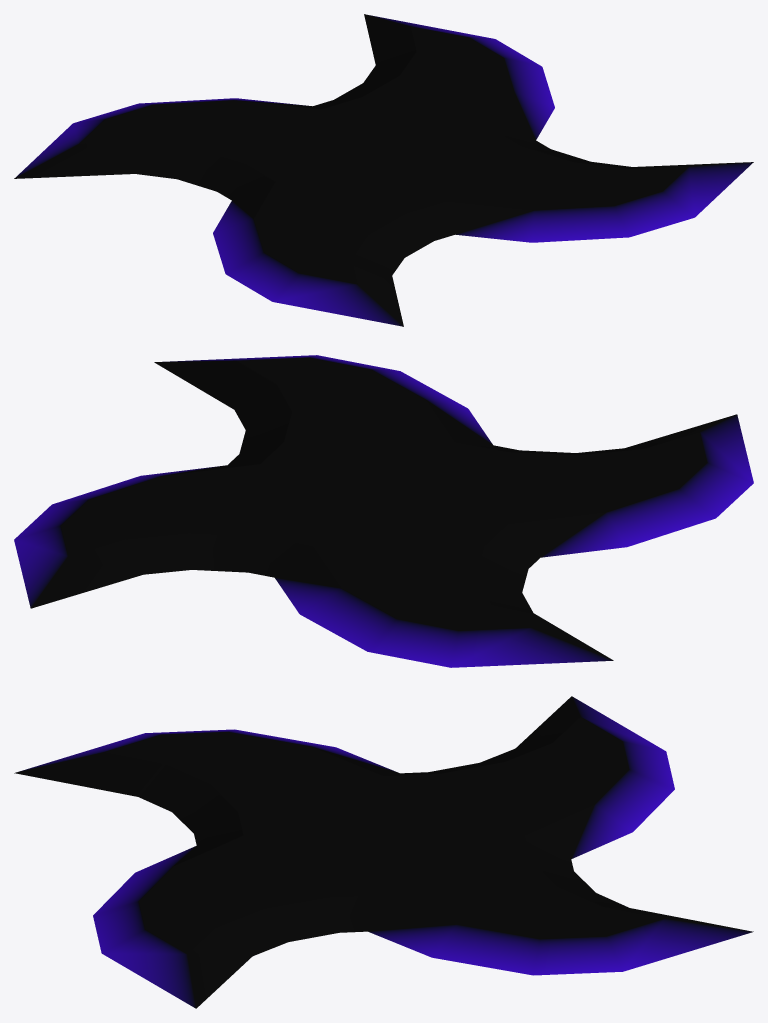
Rendered from SM_WEP_Eff_TrueRasenShuriken_01.mo.fbx.
3 renders of one model, top to bottom at view 1: azimuth 30°, elevation 25°; view 2: azimuth 150°, elevation 25°; view 3: azimuth 270°, elevation 25°, orthographic. The views are drawn at different scales.
Visible parts, largest first — view 1: SM_WEP_Eff_TrueRasenShuriken_01.mo; view 2: SM_WEP_Eff_TrueRasenShuriken_01.mo; view 3: SM_WEP_Eff_TrueRasenShuriken_01.mo.
Part boxes in pixels (box(x1,y1,x2,y2)): SM_WEP_Eff_TrueRasenShuriken_01.mo: box(14, 14, 753, 326); SM_WEP_Eff_TrueRasenShuriken_01.mo: box(14, 355, 753, 667); SM_WEP_Eff_TrueRasenShuriken_01.mo: box(14, 696, 753, 1008).
Size of the model in its own units: 0.9878 by 0.05 by 0.9878.
